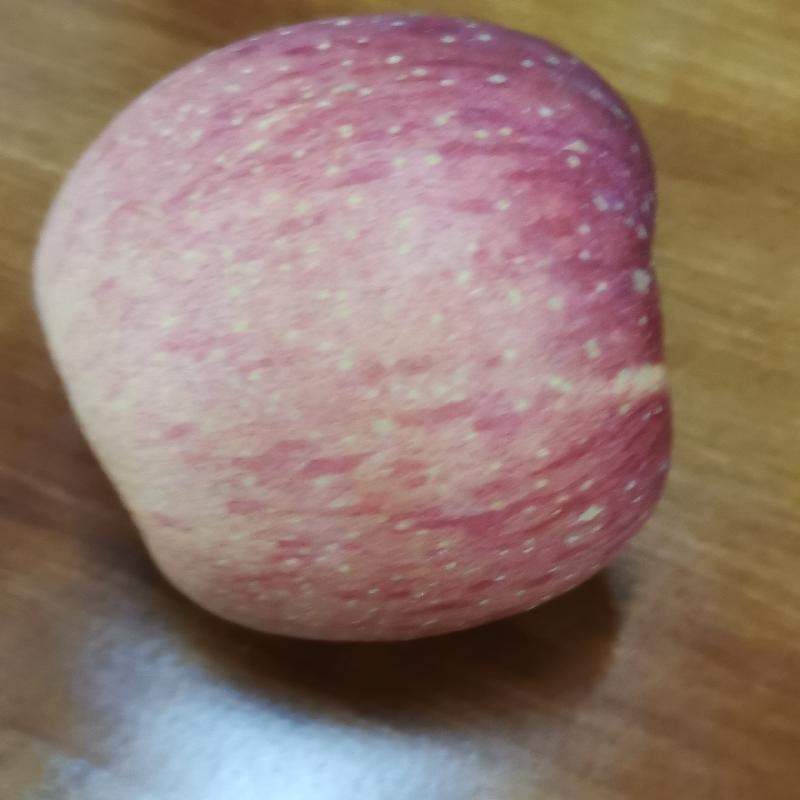apples: (47, 5, 691, 646)
